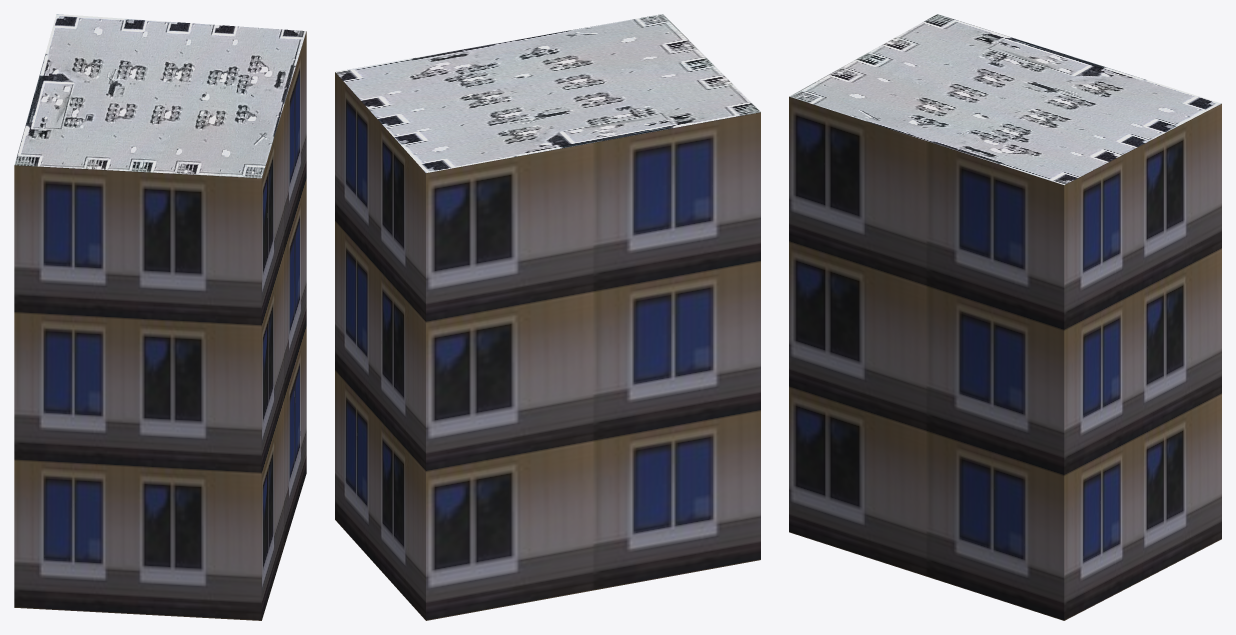
The model's file is ResTex__4505.fbx.
The picture shows the model from 3 angles, left to right: view 1: azimuth 30°, elevation 25°; view 2: azimuth 150°, elevation 25°; view 3: azimuth 270°, elevation 25°; orthographic projection. The views are drawn at different scales.
Parts seen in each view (by area): view 1: CityEngineMaterial_5_m, CityEngineMaterial_m; view 2: CityEngineMaterial_5_m, CityEngineMaterial_m; view 3: CityEngineMaterial_5_m, CityEngineMaterial_m.
Boxes of the visible parts, x1=… form: CityEngineMaterial_5_m: x1=14, y1=31, x2=306, y2=620; CityEngineMaterial_m: x1=14, y1=14, x2=306, y2=178; CityEngineMaterial_5_m: x1=335, y1=72, x2=760, y2=620; CityEngineMaterial_m: x1=335, y1=14, x2=760, y2=172; CityEngineMaterial_5_m: x1=789, y1=96, x2=1221, y2=620; CityEngineMaterial_m: x1=789, y1=14, x2=1221, y2=185.
Bounding box in the file's own units: 7.59 × 9 × 8.1.
2 materials, 2 textured.
